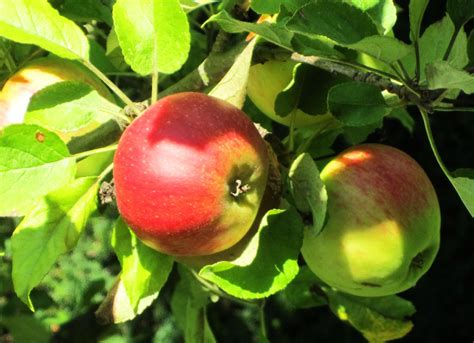apple: (106, 86, 268, 262), (297, 142, 445, 301)
